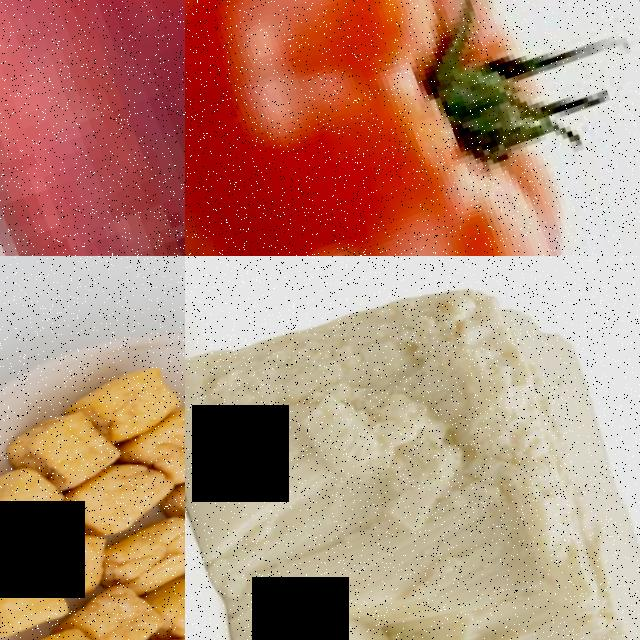tofu: (185, 256, 640, 640), (61, 355, 185, 452), (4, 402, 119, 497), (87, 508, 185, 603), (0, 453, 78, 572), (116, 397, 185, 498), (0, 542, 71, 640)
tomato: (185, 0, 640, 256)
